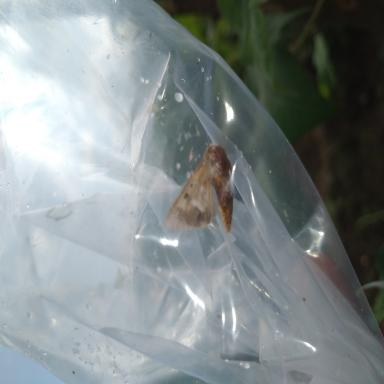abw: (163, 142, 234, 236)
